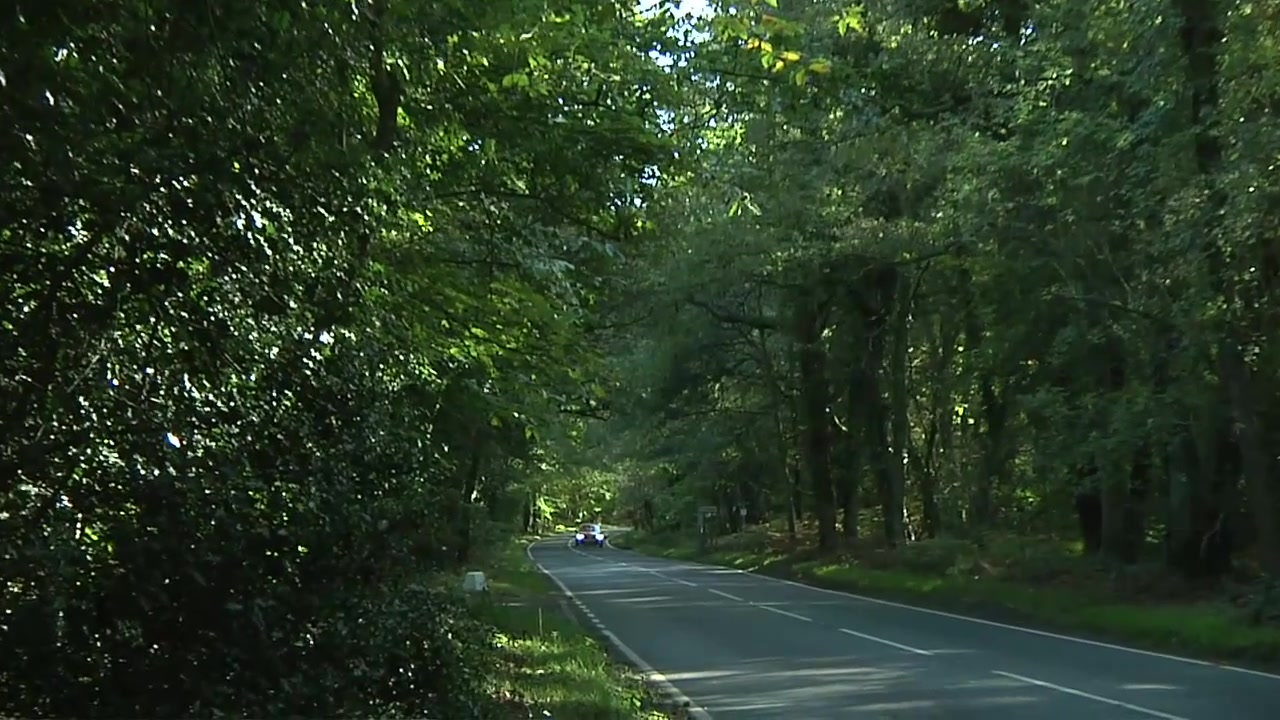car: (575, 523, 606, 551)
